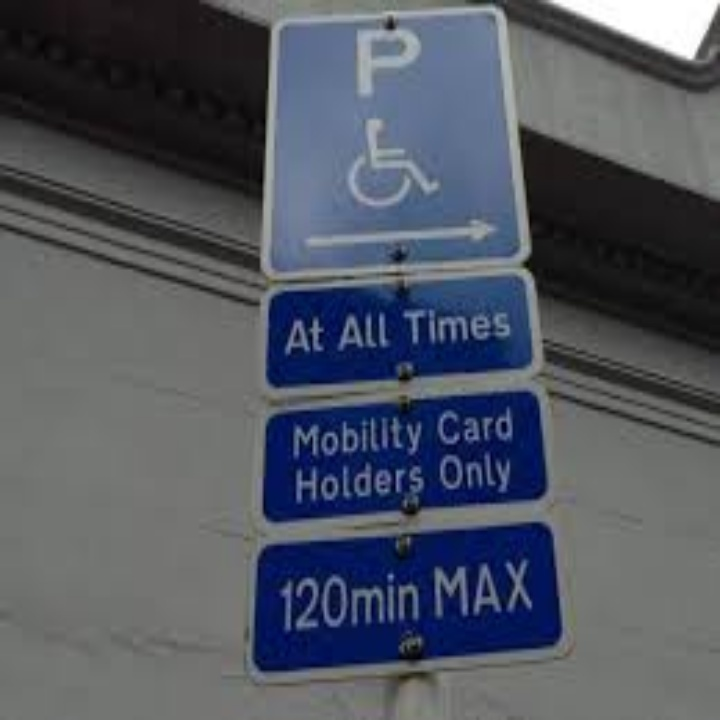parking: (350, 23, 427, 102)
